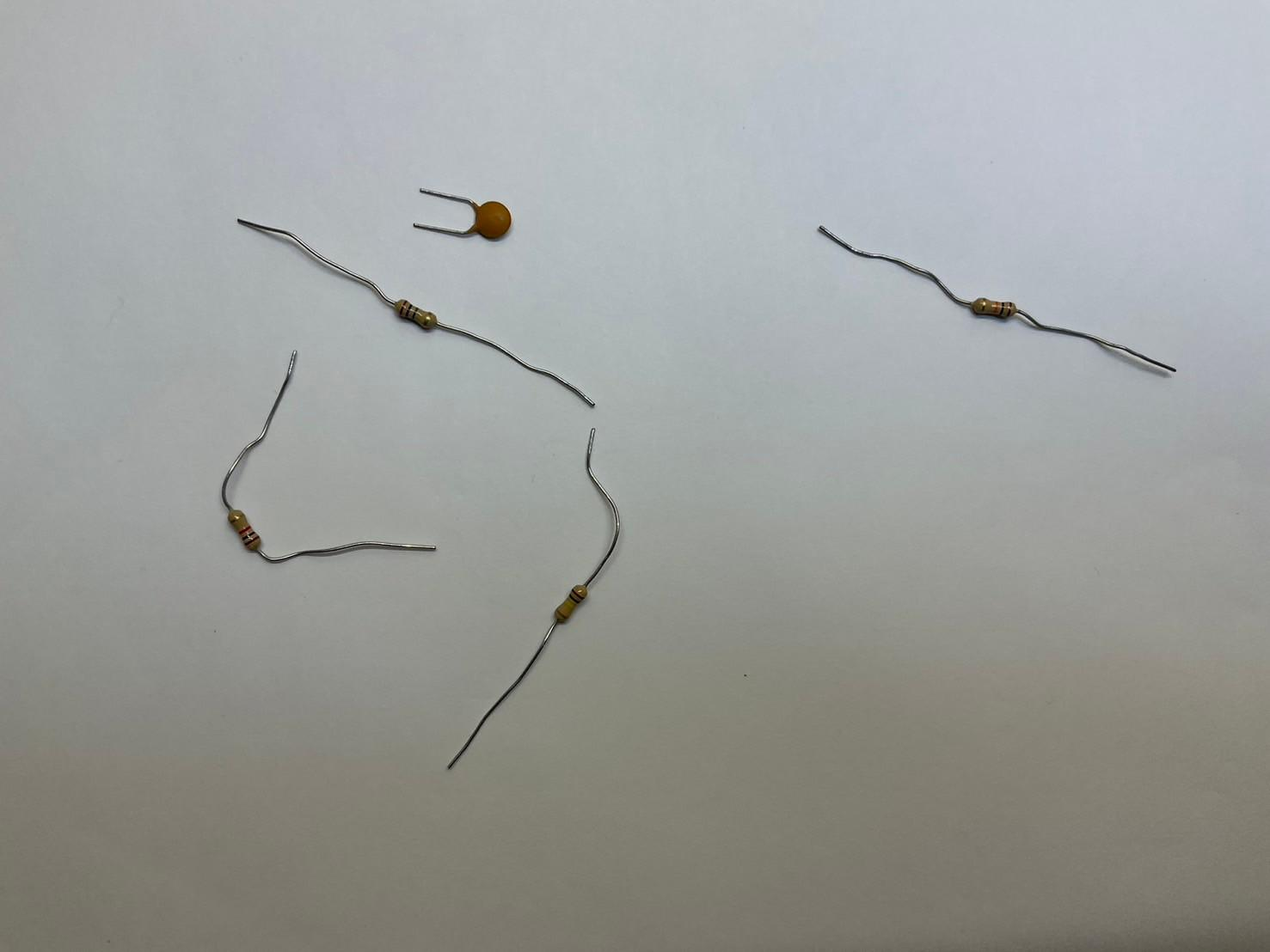resistor: (552, 587, 588, 628), (227, 511, 262, 552), (395, 298, 437, 330), (970, 296, 1014, 321)
